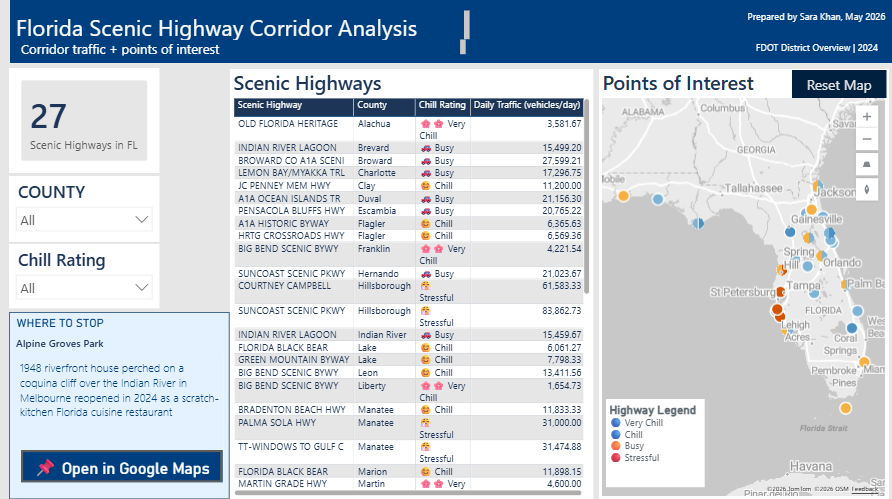

What the dashboard file says about the page in this screenshot:
{"tool":"powerbi","page":{"name":"Scenic Highways","canvas":[1280,720],"ordinal":1},"visuals":[{"type":"azureMap","title":"Points of Interest","fields":{"Y":["scenicn high way stops.Latitude"],"X":["scenicn high way stops.Longitude"],"Series":["Highway Summary.Chill Rating"]},"box":[856.2,101.2,413.8,615],"z":0},{"type":"shape","box":[13,0,1267,94],"z":1000},{"type":"textbox","box":[22.2,12.2,647.8,46.7],"z":2000},{"type":"textbox","box":[1059.3,56.6,204.3,30],"z":3000},{"type":"cardVisual","fields":{"Data":["Highway Summary.Statewide Avg AADT"]},"box":[12.5,100,215,150],"z":4000},{"type":"textbox","box":[24.3,54.3,645.7,32.9],"z":5000},{"type":"slicer","fields":{"Values":["Highway Summary.COUNTY"]},"box":[12.5,253.8,215,93.8],"z":6000},{"type":"slicer","fields":{"Values":["Highway Summary.Chill Rating"]},"box":[13,351,215,92],"z":7000},{"type":"shape","box":[12.5,448.8,315,267.5],"z":8000},{"type":"textbox","box":[19.2,449.1,260,40],"z":9000},{"type":"cardVisual","fields":{"Data":["scenicn high way stops.Recommended Stop"]},"box":[22.5,471.2,297.5,40],"z":10000},{"type":"cardVisual","fields":{"Data":["Min(scenicn high way stops.Charm Note)"]},"box":[28.3,511.7,291.7,165],"z":11000},{"type":"actionButton","box":[30,646.2,287.5,46.2],"z":12000},{"type":"tableEx","title":"Scenic Highways","fields":{"Values":["Highway Summary.DESCRIPT","Highway Summary.COUNTY","Highway Summary.Chill Rating","Sum(Highway Summary.Avg AADT)"]},"box":[328.8,101.2,518.8,615],"z":13000},{"type":"actionButton","box":[1131.2,102.5,135,40],"z":14000},{"type":"textbox","box":[1051.2,12.5,218.8,30],"z":16000},{"type":"textbox","box":[866.2,572.5,141.2,126.2],"z":17000}]}

Visuals, with their boxes in screenshot pixels (x1, y1, x2, y2), scaled from the page's 1280x720 canvas onto the 892x499 screenshot:
"Points of Interest" azureMap: l=597, t=70, r=885, b=496
shape: l=9, t=0, r=891, b=65
textbox: l=15, t=8, r=467, b=41
textbox: l=738, t=39, r=881, b=60
cardVisual - Highway Summary.Statewide Avg AADT: l=9, t=69, r=159, b=173
textbox: l=17, t=38, r=467, b=60
slicer - Highway Summary.COUNTY: l=9, t=176, r=159, b=241
slicer - Highway Summary.Chill Rating: l=9, t=243, r=159, b=307
shape: l=9, t=311, r=228, b=496
textbox: l=13, t=311, r=195, b=339
cardVisual - scenicn high way stops.Recommended Stop: l=16, t=327, r=223, b=354
cardVisual - Min(scenicn high way stops.Charm Note): l=20, t=355, r=223, b=469
actionButton: l=21, t=448, r=221, b=480
"Scenic Highways" tableEx: l=229, t=70, r=591, b=496
actionButton: l=788, t=71, r=882, b=99
textbox: l=733, t=9, r=885, b=29
textbox: l=604, t=397, r=702, b=484
